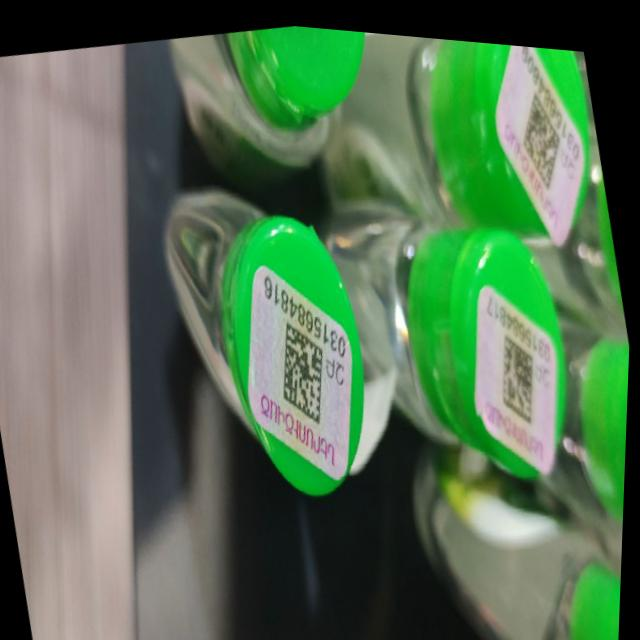datamatrix: (271, 309, 341, 428), (512, 78, 571, 186), (491, 319, 551, 424)
